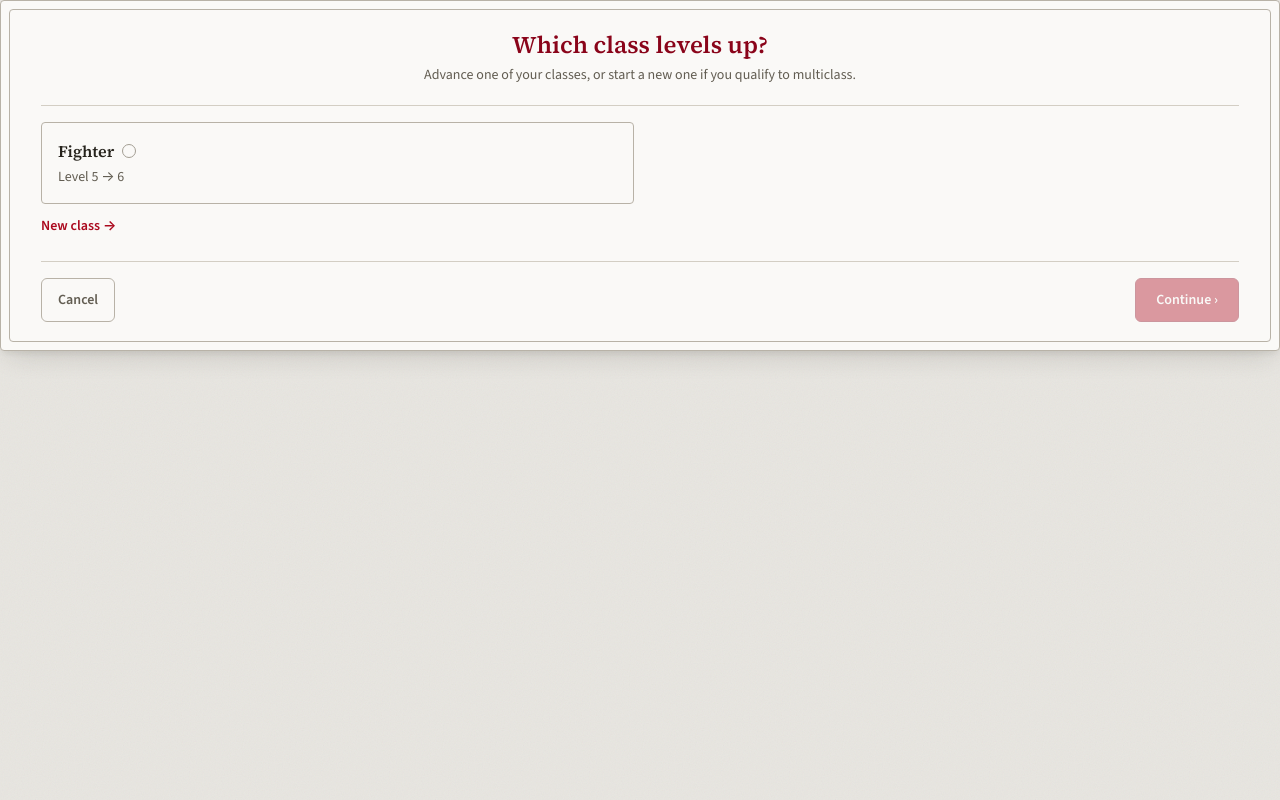
Test: ClassChoiceStep › keeps a top-level pick live across an incidental drill-in visit (#1209 review)
The width and height of the screenshot is (1280, 800).
Click the radio button labelled "Fighter": (86, 151) [41,122,634,204]
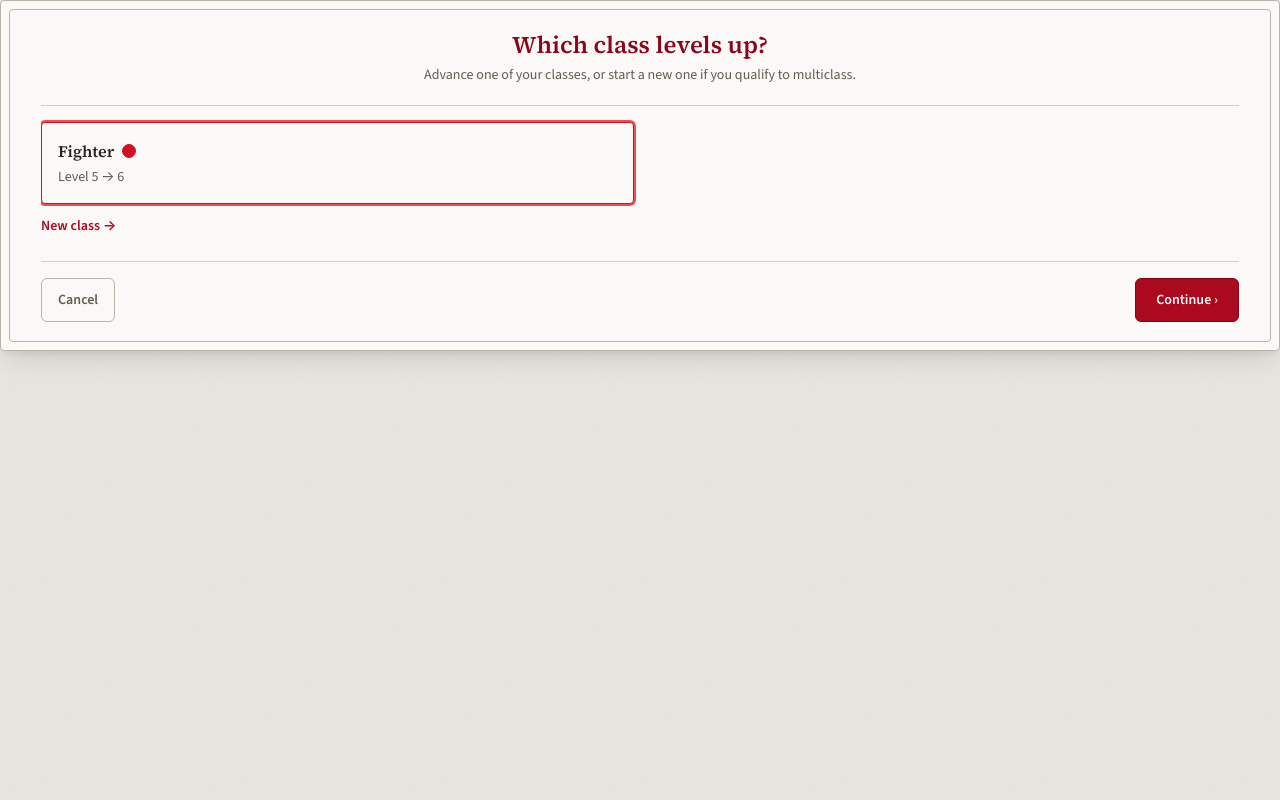
Expected: the button "Continue ›" is enabled, [1135,278,1239,322]
Click the button "New class →": (79, 226) [41,216,116,236]
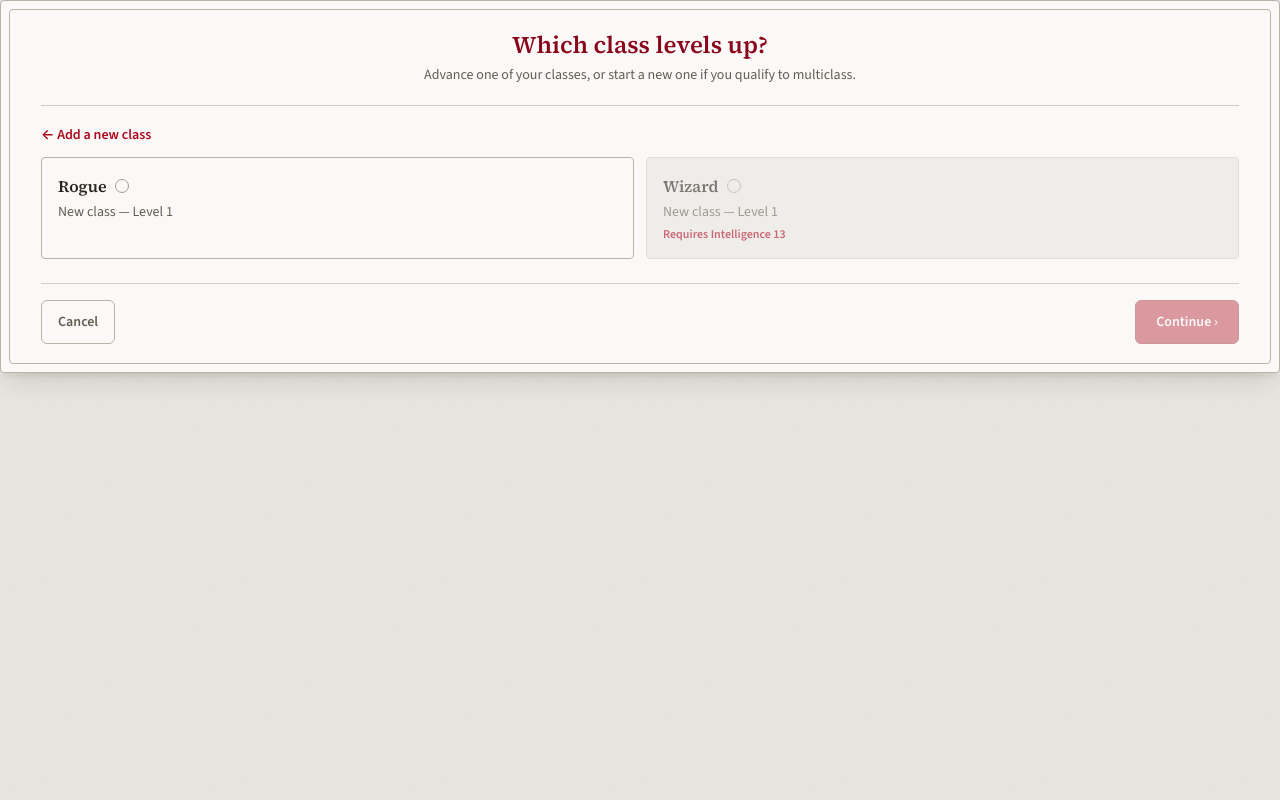
Expected: the button "Continue ›" is disabled, [1135,300,1239,344]
Click the button with aria-label "back to class selection": (96, 135) [41,125,151,145]
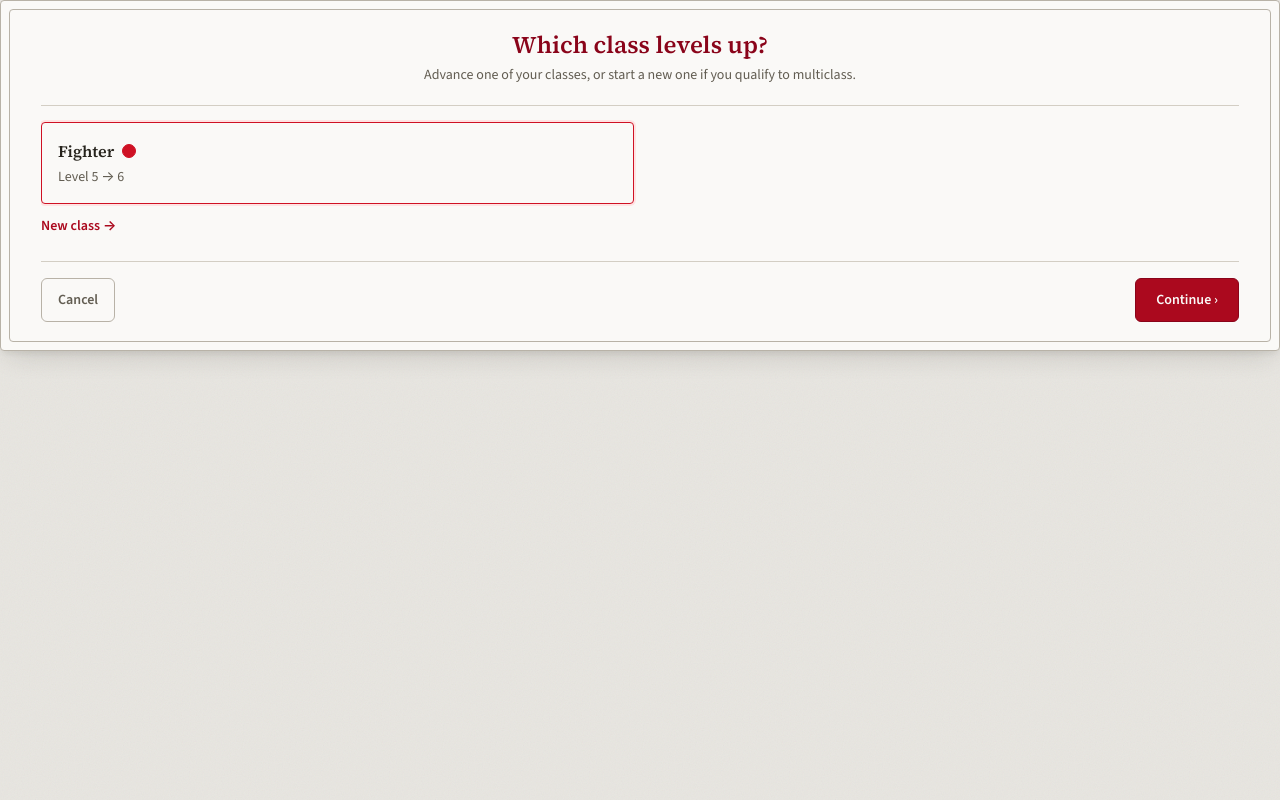
Expected: the button "Continue ›" is enabled, [1135,278,1239,322]
